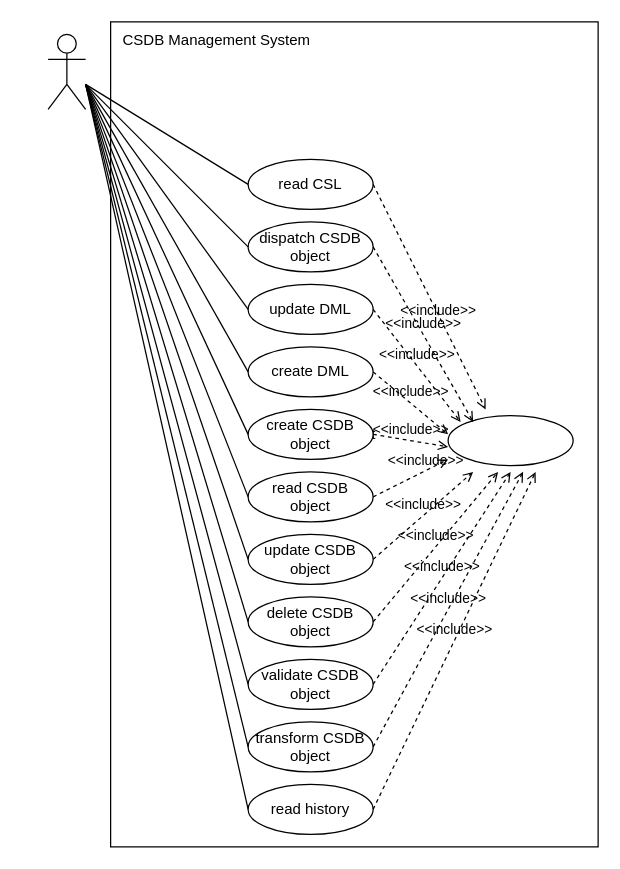
This 620x869 diagram has some shape labels left out. The shapes that lost their labels are listed below. From the top down, each one's centre as x and y in pixels, then its label:
At point (66, 71): "CSDB Owner".
At point (510, 440): "authenticating".
